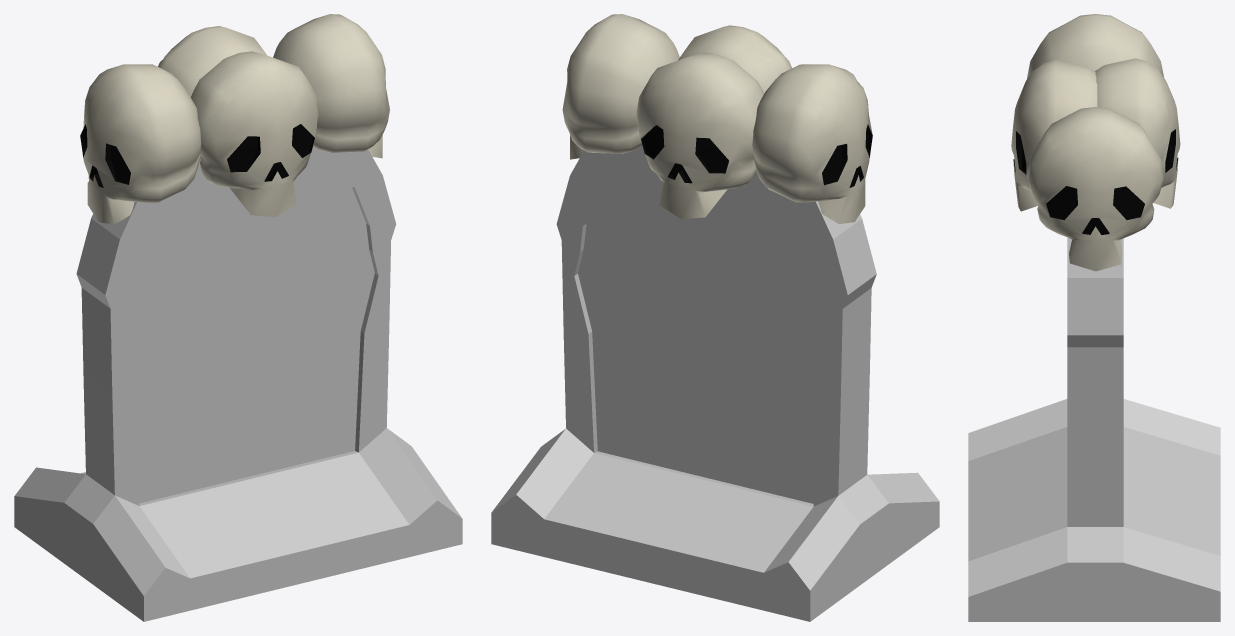
File: 3D.Lapide.fbx
3 views of the same model, side by side, from view 1: azimuth 30°, elevation 25°; view 2: azimuth 150°, elevation 25°; view 3: azimuth 270°, elevation 25° (orthographic). The views are drawn at different scales.
Parts seen in each view (by area): view 1: Lapide, Teschi, Occhi; view 2: Lapide, Teschi, Occhi; view 3: Lapide, Teschi, Occhi.
Boxes of the visible parts, x1,y1,x2,y2 form: Lapide: (14,147,462,621); Teschi: (83,14,389,224); Occhi: (80,124,314,187); Lapide: (491,146,939,621); Teschi: (562,14,872,224); Occhi: (641,124,872,187); Lapide: (968,237,1220,621); Teschi: (1011,14,1180,271); Occhi: (1013,129,1178,234).
Size of the model in its own units: 133 by 197 by 93.76.
